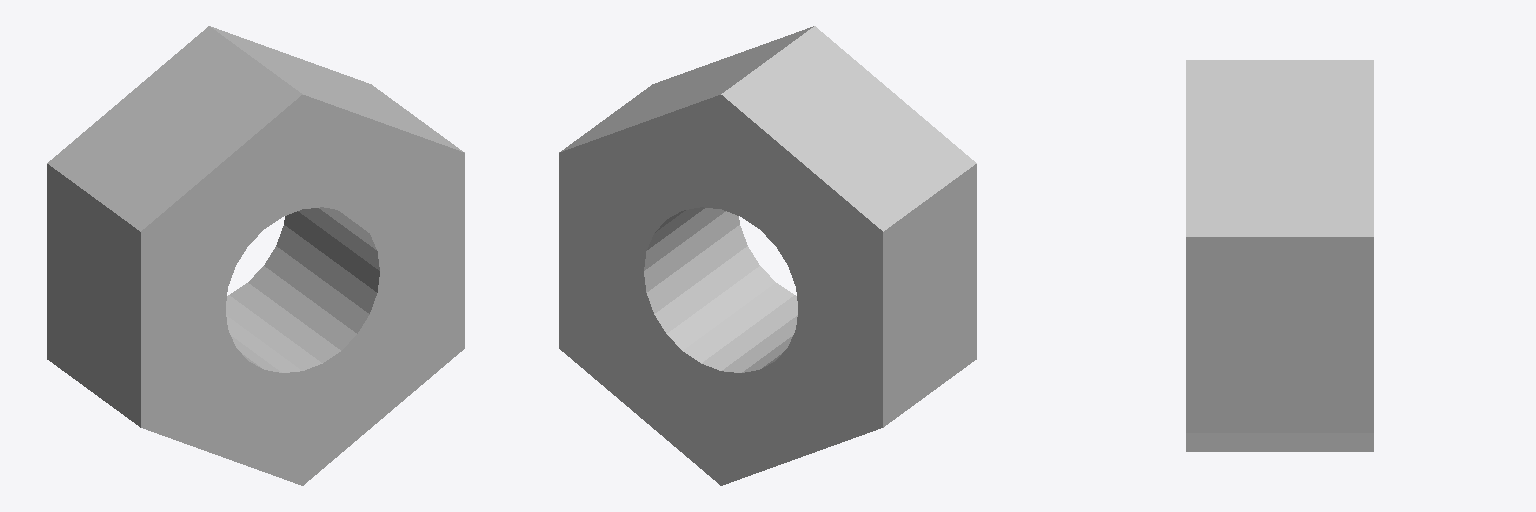
The model's file is _0633A009_Low_Strength_Steel_Thin_Nylon_Insert_Locknut_05__0633A009_Low_Strength_Steel_Thin_Nylon_Insert_Locknut.obj.
The picture shows the model from 3 angles: view 1: azimuth 30°, elevation 25°; view 2: azimuth 150°, elevation 25°; view 3: azimuth 270°, elevation 25°; orthographic projection.
Size of the model in its own units: 0.0087 by 0.0101 by 0.0044.